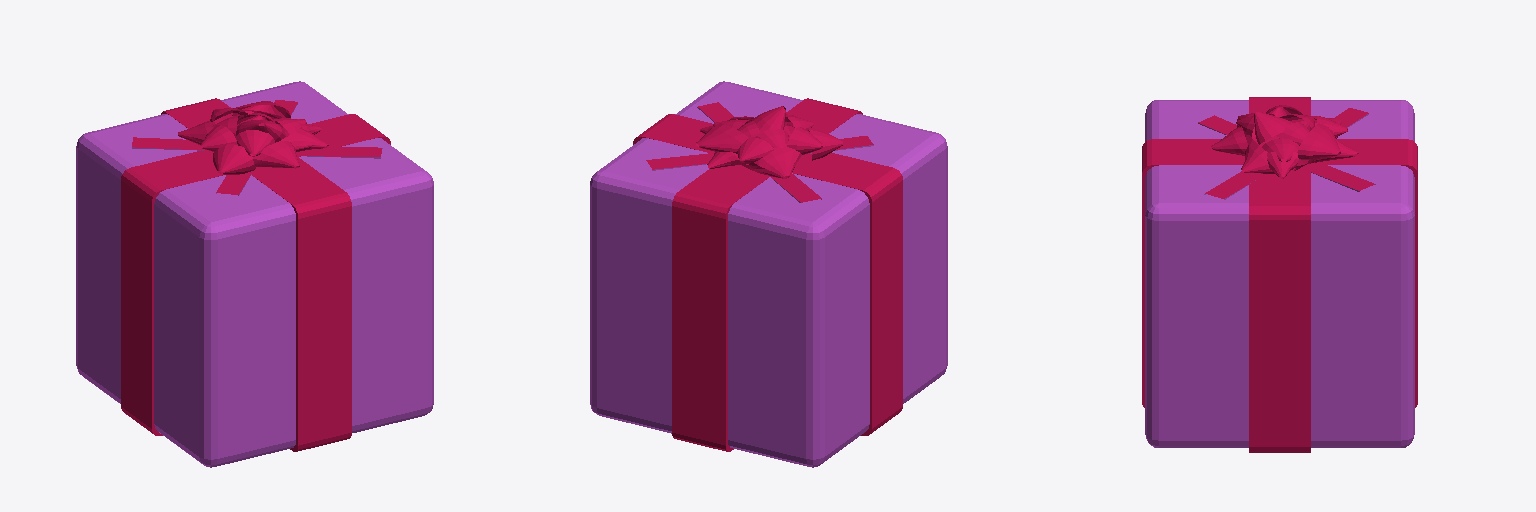
The picture shows the model from 3 angles: view 1: azimuth 30°, elevation 25°; view 2: azimuth 150°, elevation 25°; view 3: azimuth 270°, elevation 25°; orthographic projection.
Parts seen in each view (by area): view 1: Assets.004_Untitled.005, Line022.004_Line022.000; view 2: Assets.004_Untitled.005, Line022.004_Line022.000; view 3: Assets.004_Untitled.005, Line022.004_Line022.000.
Part boxes in pixels (bbox=[...]): Assets.004_Untitled.005: bbox=[76, 81, 433, 467]; Line022.004_Line022.000: bbox=[178, 101, 328, 174]; Assets.004_Untitled.005: bbox=[590, 81, 947, 467]; Line022.004_Line022.000: bbox=[696, 106, 842, 178]; Assets.004_Untitled.005: bbox=[1142, 97, 1417, 452]; Line022.004_Line022.000: bbox=[1211, 105, 1358, 178].
Bounding box in the file's own units: 0.6875 × 0.7794 × 0.6875.